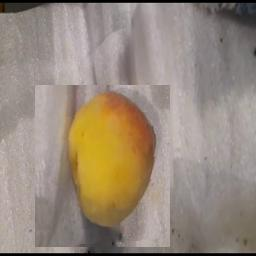Peach Semifresh: (35, 85, 170, 247)
